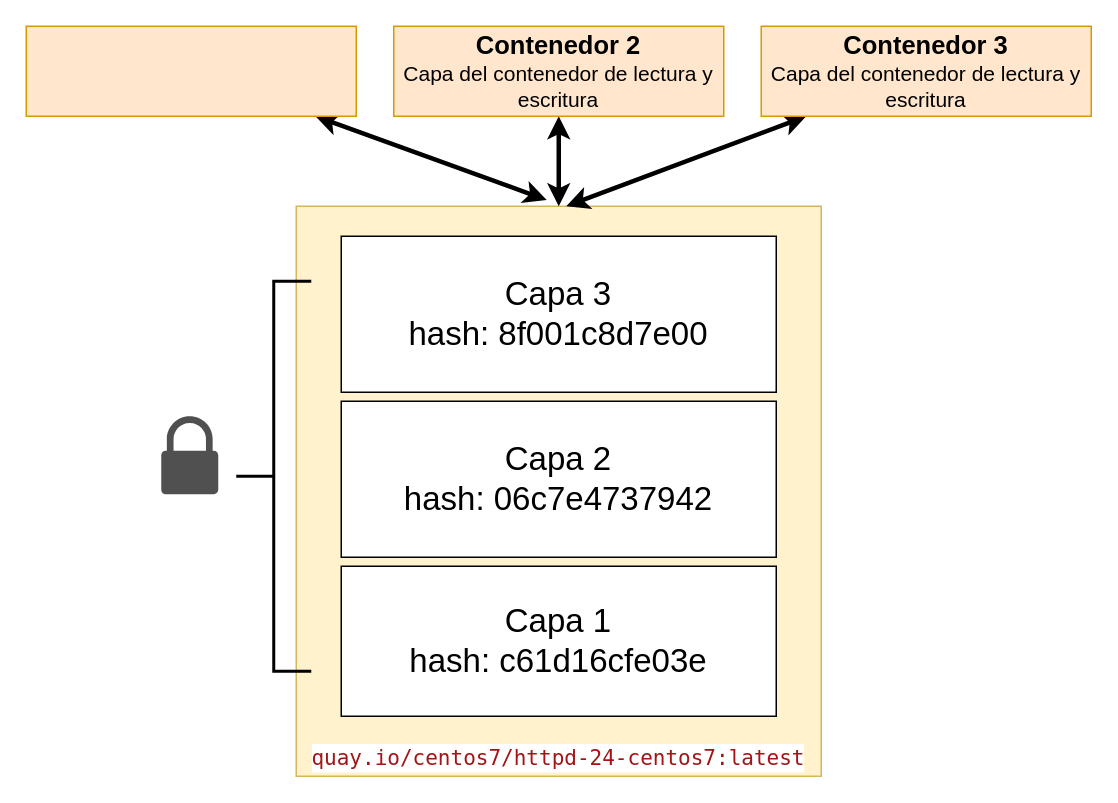
The diagram is 1118 pixels wide and 803 high, and some of its shapes have lost their labels. The shapes that lost their labels are listed below. From the top down, each one's centre as x and y in pixels, then its label:
At (190,70): "Contenedor 1 Capa del contenedor de lectura y escritura".
At (189,455): "Capas de sólo lectura".
